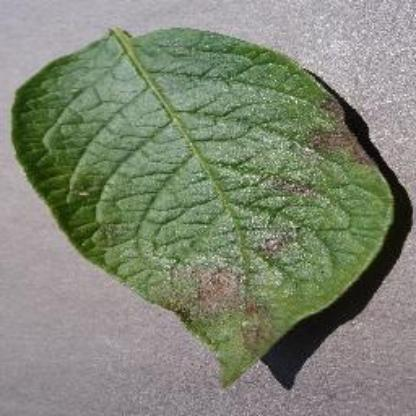Late-Blight: (8, 14, 408, 398)
